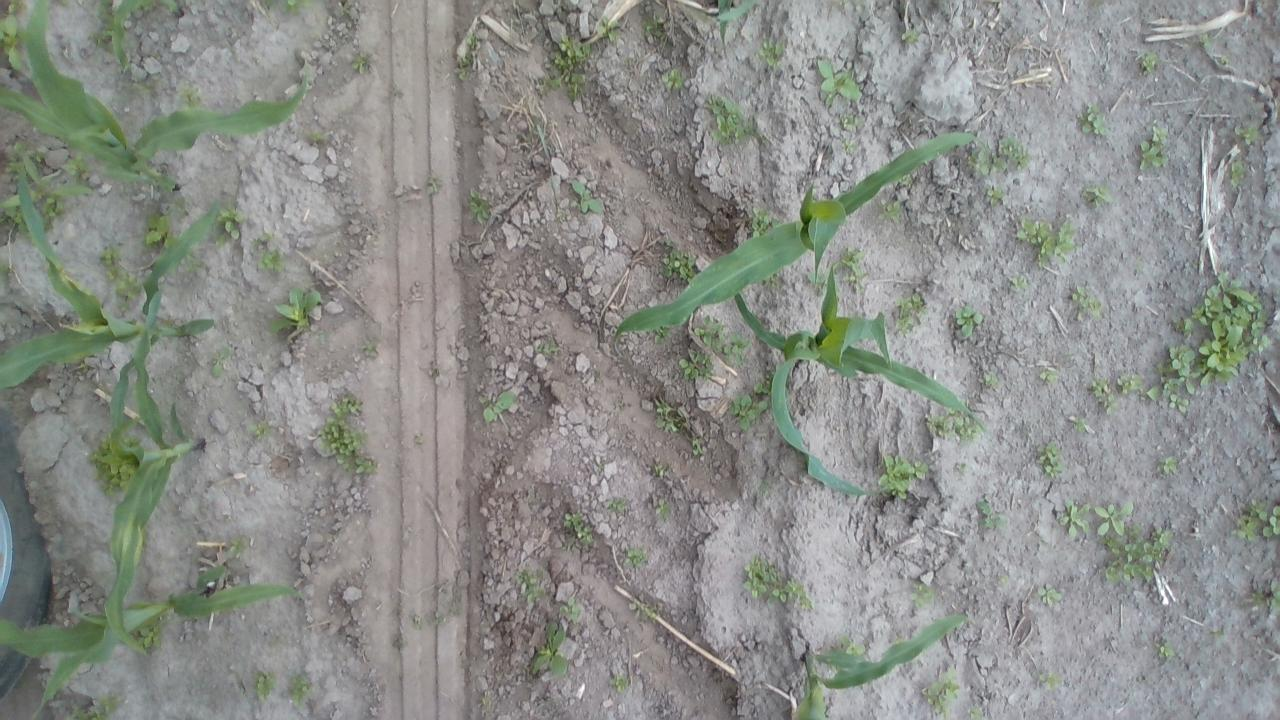Maize: (613, 130, 976, 344), (3, 0, 308, 191), (736, 266, 987, 498), (1, 160, 218, 392), (2, 584, 296, 720), (105, 290, 207, 656), (794, 614, 965, 720), (115, 0, 187, 76), (716, 1, 756, 56)
Weeds: (1147, 270, 1270, 414), (0, 142, 99, 210), (309, 392, 376, 477), (738, 555, 814, 615), (1094, 530, 1174, 586), (542, 30, 596, 103), (1016, 210, 1082, 266), (268, 286, 325, 336), (1228, 498, 1280, 549), (526, 618, 568, 676), (702, 93, 747, 146), (91, 438, 133, 493), (879, 452, 929, 498), (814, 58, 866, 102), (1094, 496, 1138, 541), (928, 406, 982, 442), (728, 390, 771, 434), (1138, 123, 1175, 174), (757, 39, 800, 79), (916, 680, 960, 718), (647, 394, 683, 438), (1056, 496, 1092, 539), (0, 5, 22, 73), (65, 694, 122, 720), (1084, 376, 1122, 414), (478, 391, 519, 426), (1034, 438, 1068, 480), (659, 250, 702, 282), (1068, 282, 1106, 318), (676, 346, 716, 379), (511, 565, 544, 603), (996, 132, 1033, 165), (836, 249, 864, 292), (90, 0, 114, 49), (960, 146, 994, 180), (561, 510, 596, 543), (1073, 102, 1109, 134), (955, 302, 983, 343), (896, 292, 922, 336), (1226, 152, 1252, 194), (1242, 582, 1280, 610), (218, 208, 245, 247), (252, 670, 282, 704), (574, 180, 605, 212), (144, 213, 172, 248), (626, 596, 658, 626), (906, 584, 939, 613), (978, 497, 1006, 530), (461, 32, 481, 76), (114, 272, 144, 300), (1239, 123, 1267, 152), (984, 181, 1010, 212), (1034, 583, 1066, 608), (748, 207, 772, 240), (97, 246, 121, 279), (1114, 370, 1145, 395), (40, 199, 70, 224), (286, 672, 310, 703), (207, 349, 230, 380), (470, 190, 491, 223), (722, 332, 748, 358), (1036, 668, 1066, 690), (1078, 185, 1114, 203), (620, 550, 652, 570), (648, 492, 674, 516), (174, 80, 200, 104), (876, 200, 904, 222), (1010, 268, 1032, 296), (1038, 364, 1068, 384), (1142, 49, 1162, 79), (257, 252, 286, 272), (978, 367, 1002, 391), (250, 232, 275, 255), (1155, 455, 1180, 478), (1149, 636, 1175, 658), (1070, 412, 1097, 432), (1190, 30, 1214, 52), (689, 433, 710, 458), (362, 334, 382, 360), (696, 320, 716, 346), (62, 154, 84, 176), (597, 15, 619, 37), (761, 273, 785, 293), (754, 371, 774, 395), (560, 600, 584, 620), (664, 66, 688, 86), (604, 496, 634, 511), (426, 172, 446, 194), (280, 0, 312, 13), (352, 48, 370, 71), (532, 339, 556, 356), (305, 123, 325, 143), (836, 108, 856, 128), (651, 461, 670, 482), (6, 212, 27, 231), (138, 628, 160, 646), (844, 640, 868, 656), (899, 28, 920, 46), (610, 674, 632, 688), (228, 540, 246, 557), (644, 21, 664, 36), (846, 136, 859, 154), (481, 691, 492, 712), (996, 573, 1011, 587), (967, 706, 981, 718), (253, 422, 265, 436), (410, 613, 424, 625), (897, 174, 911, 184)
